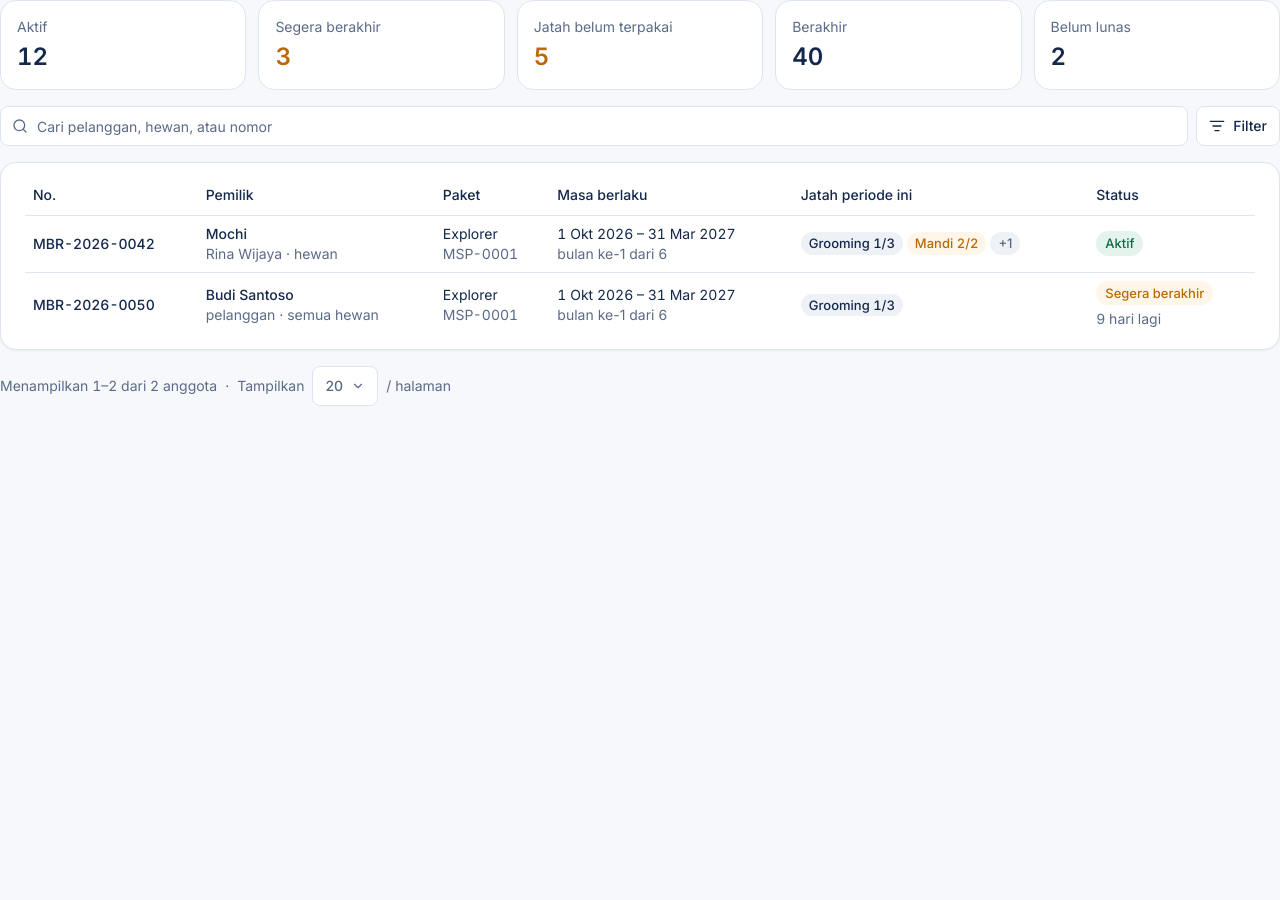
Scenario: Anggota list › filters by Melekat ke through the Filter panel, applied on Terapkan
Expected: the link "MBR-2026-0042" is shown, left=33, top=234, right=155, bottom=252
What coordinates should you click on to do the following:
click the button "Filter"
I would click on:
 (1238, 126)
Its box is left=1196, top=106, right=1279, bottom=146.
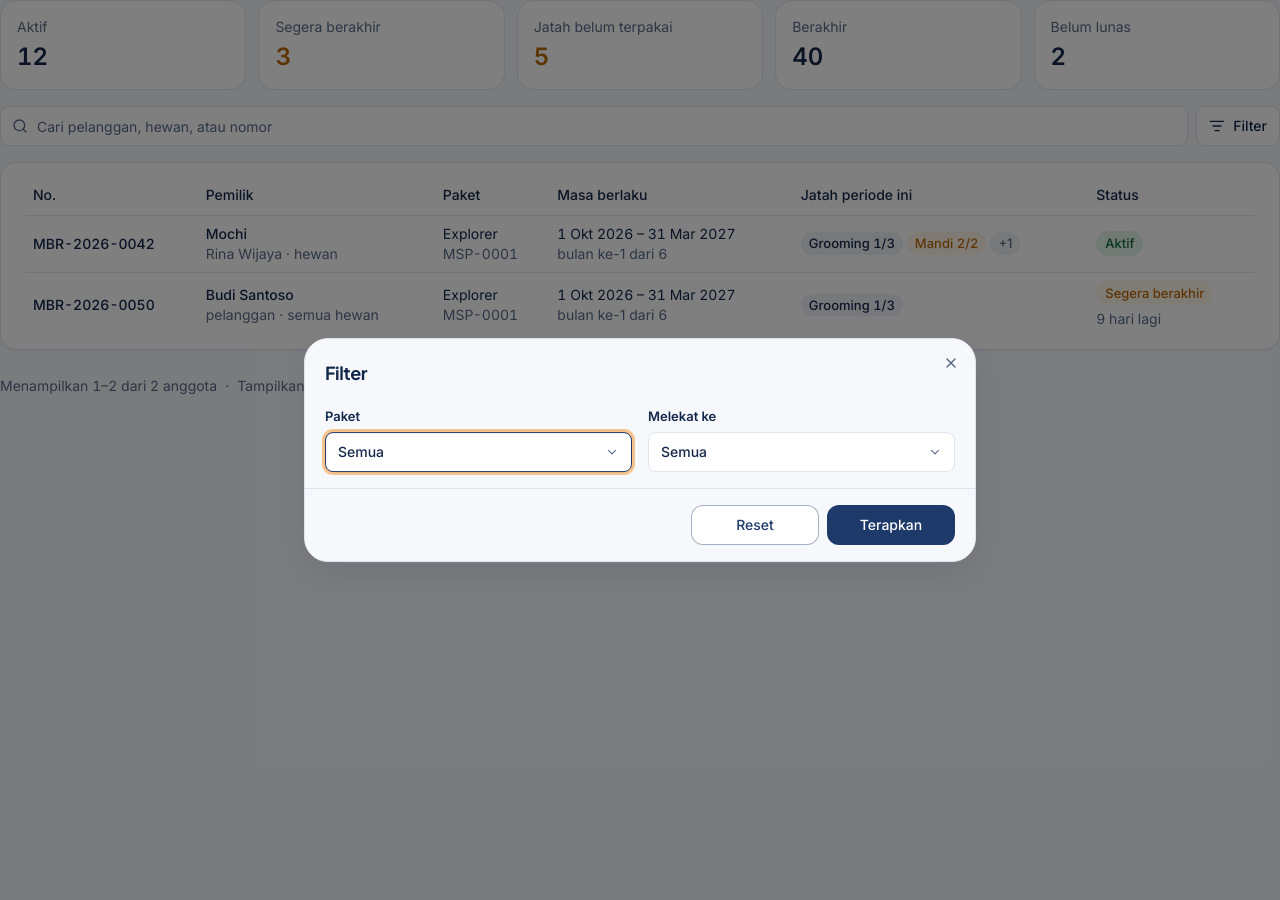
What coordinates should you click on to do the following:
click the button with aria-label "Filter melekat ke"
I would click on:
 (684, 451)
Its box is left=648, top=432, right=955, bottom=472.
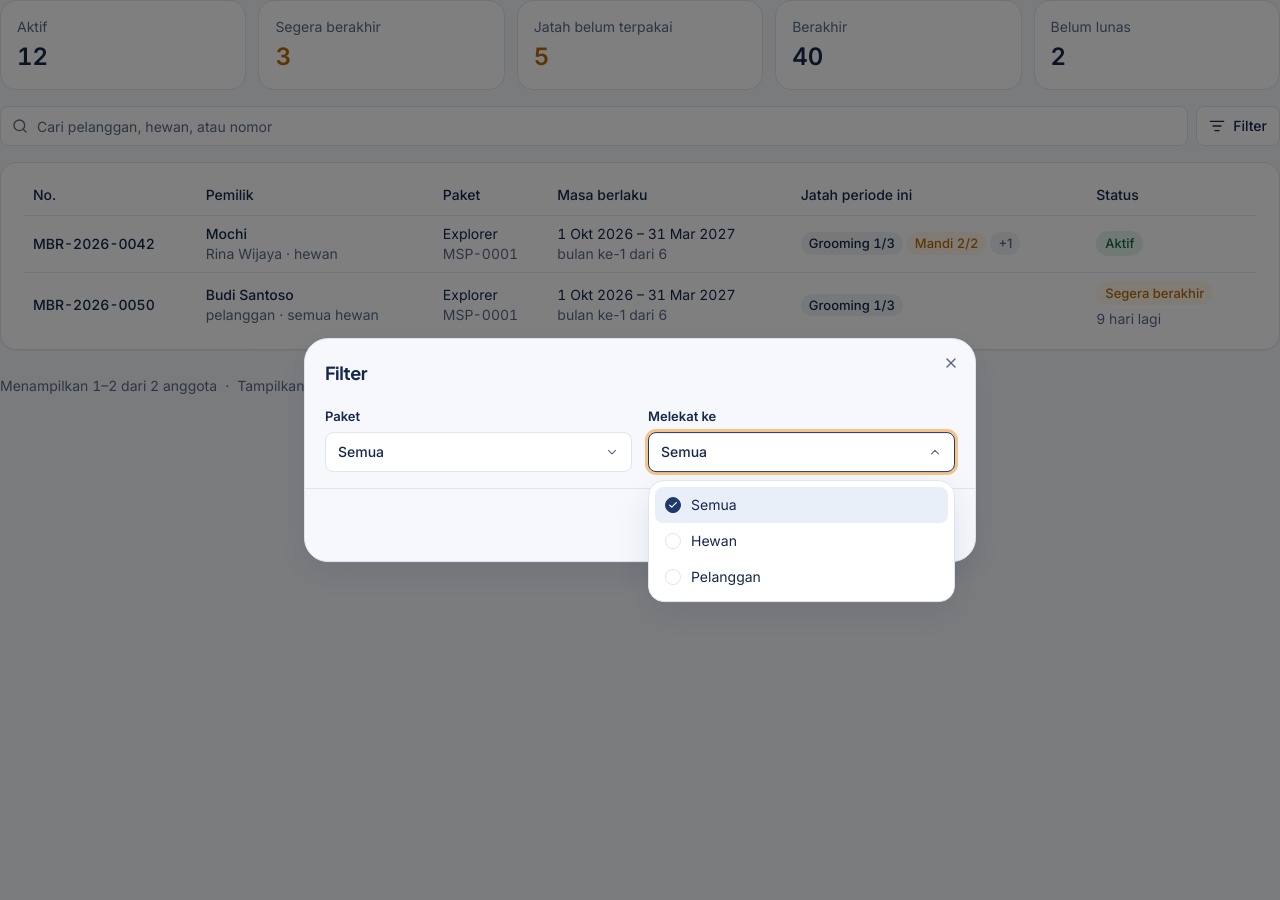
What coordinates should you click on to do the following:
click the option "Pelanggan"
I would click on:
 (713, 577)
Its box is left=665, top=568, right=761, bottom=585.
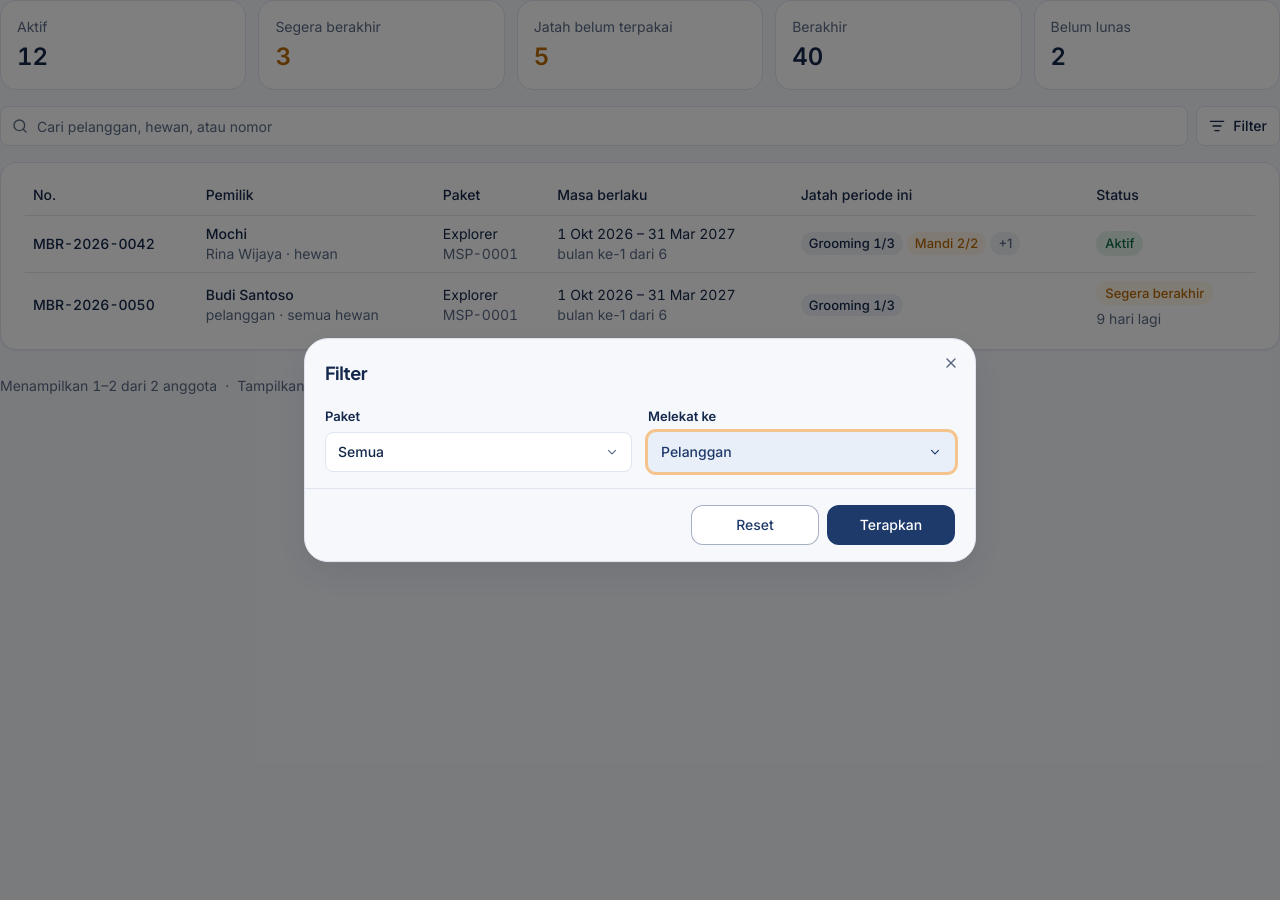
What coordinates should you click on to do the following:
click the button "Terapkan"
I would click on:
 (891, 525)
Its box is left=827, top=505, right=955, bottom=545.
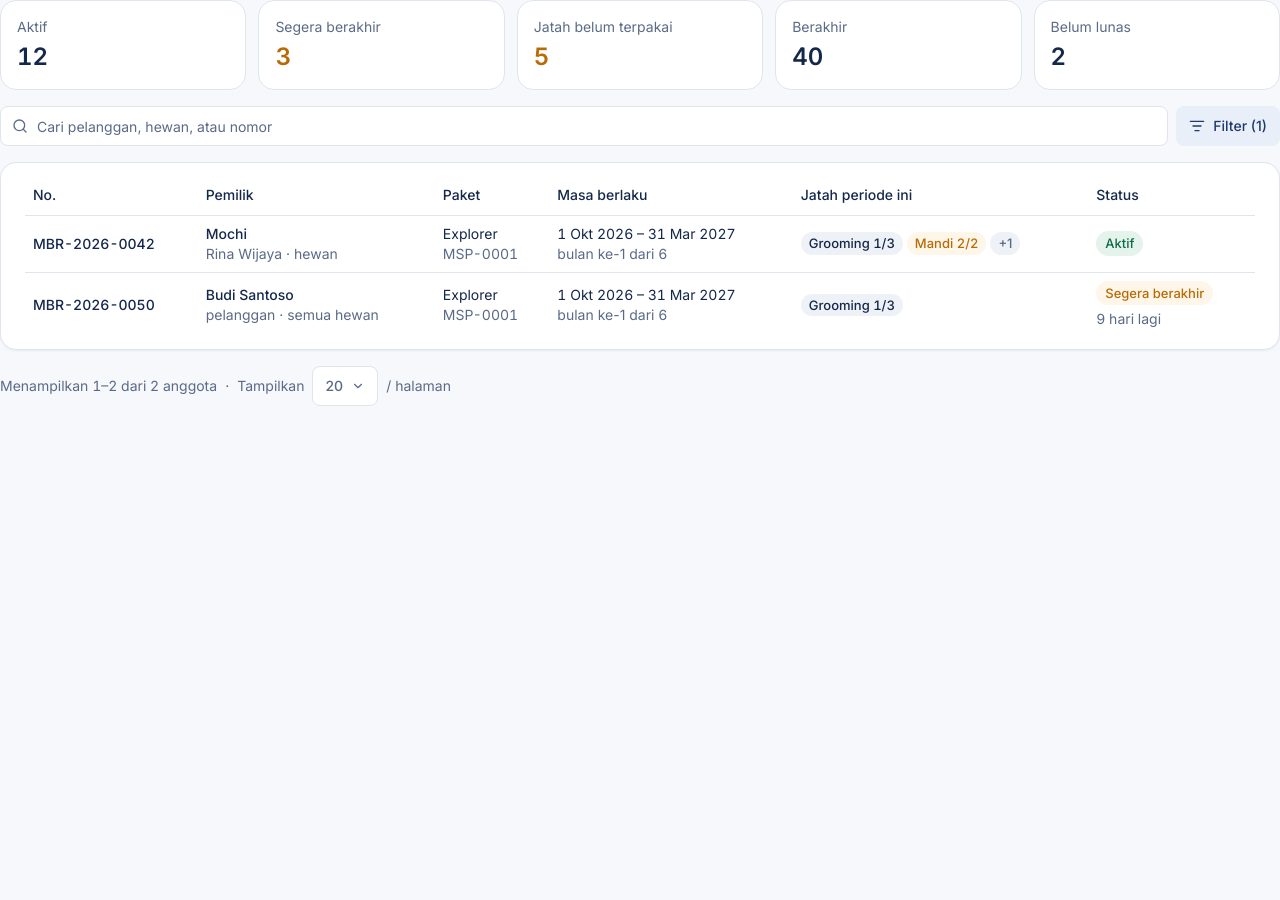
Result: the button "Filter (1)" is shown at left=1176, top=106, right=1279, bottom=146
